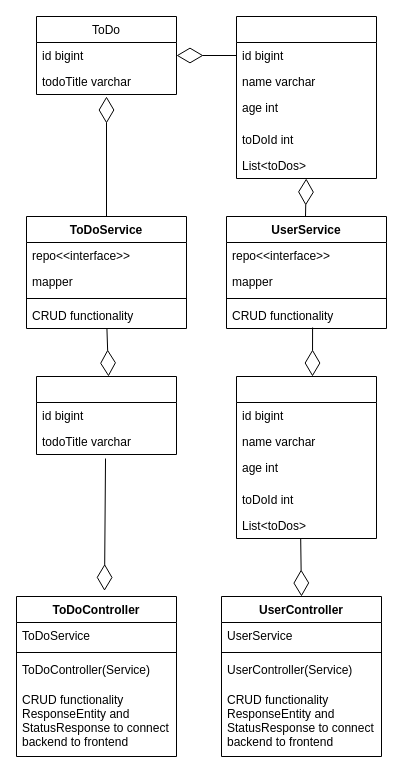
Image size: 403x773. Some labels were removed from this diagram. The shapes that lost their labels are listed below. From the top down, each one's box as (x1, y1, x2, y2) in pixels, then its label:
(236, 16, 376, 178): User
(36, 376, 176, 454): ToDoDto
(236, 376, 376, 538): UserDto
